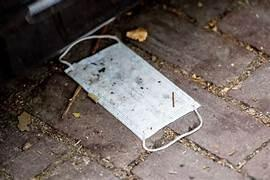Mask: (60, 35, 201, 150)
